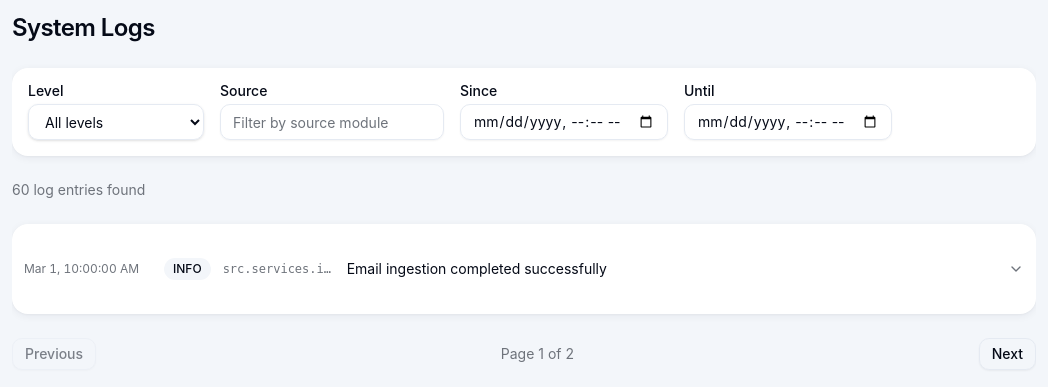
LogsPage › Next button is disabled on the last page
The width and height of the screenshot is (1048, 387).
// Click Next to advance to the last page
Click the button "Next" at (1007, 354), box x1=979 y1=338 x2=1036 y2=370
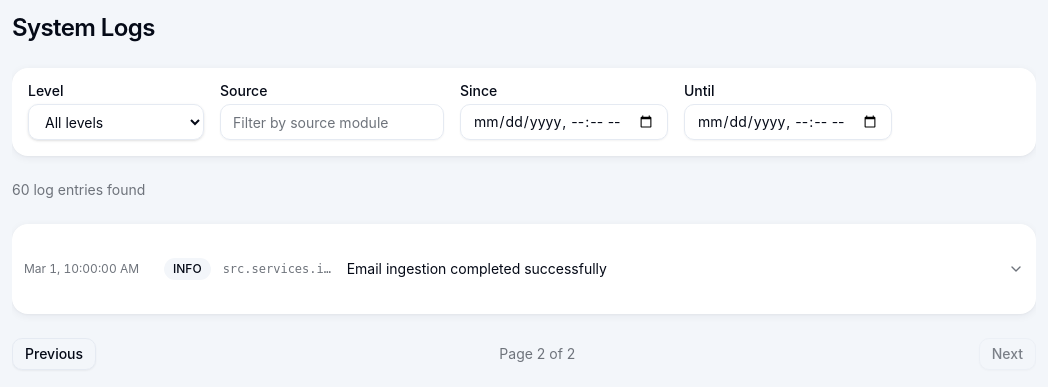
Check: the button "Next" is disabled, box x1=979 y1=338 x2=1036 y2=370
